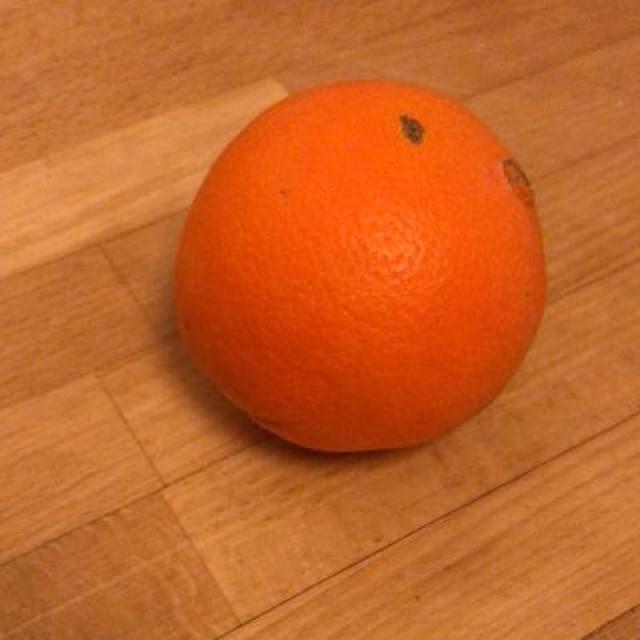Orange: (152, 56, 554, 468)
